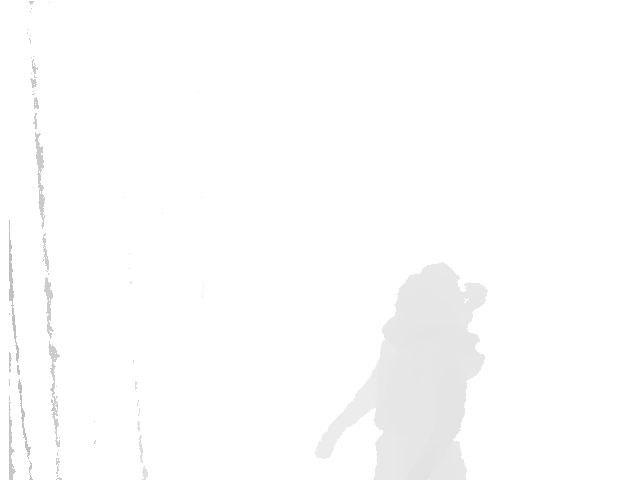head: (393, 262, 469, 332)
person: (317, 261, 489, 480)
